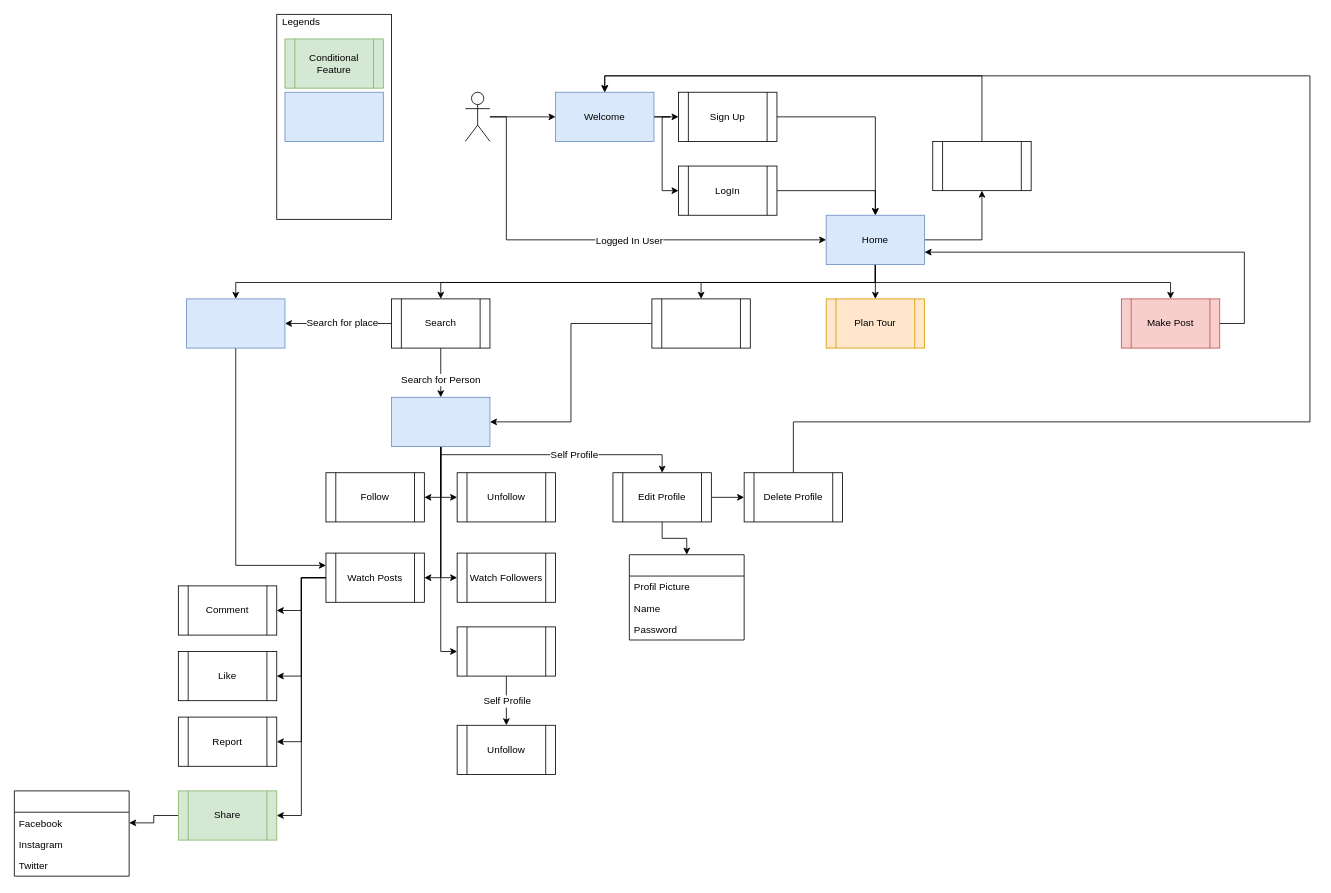
Some shapes in this 1331 by 893 pixel diagram are drawn without their labels. Each missing label, with the box of its shape:
Actor: (465, 91, 490, 141)
Discover: (186, 298, 285, 348)
Editable: (629, 554, 744, 640)
LogOut: (932, 141, 1031, 191)
Page: (284, 91, 383, 141)
Platforms for Shareing: (14, 790, 129, 876)
Profile: (391, 396, 490, 446)
Watch Following: (456, 626, 556, 676)
Watch Self Profile: (651, 298, 750, 348)
